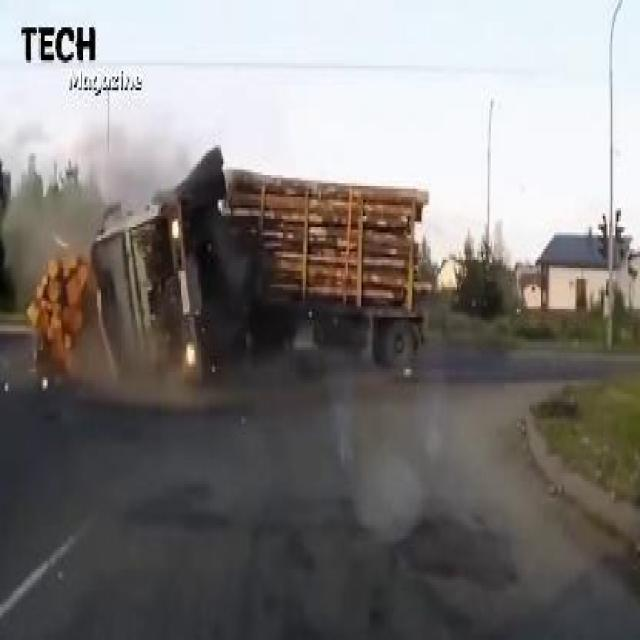accident: (23, 153, 429, 402)
